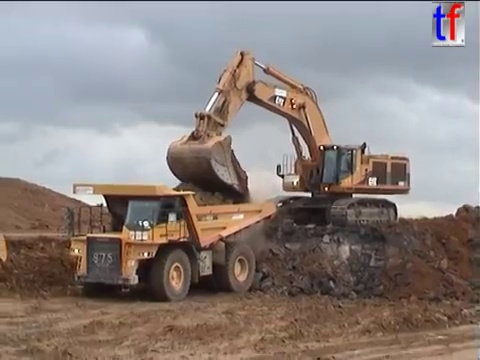excavator: (163, 47, 415, 236)
truck: (63, 181, 278, 304), (1, 232, 8, 265)
